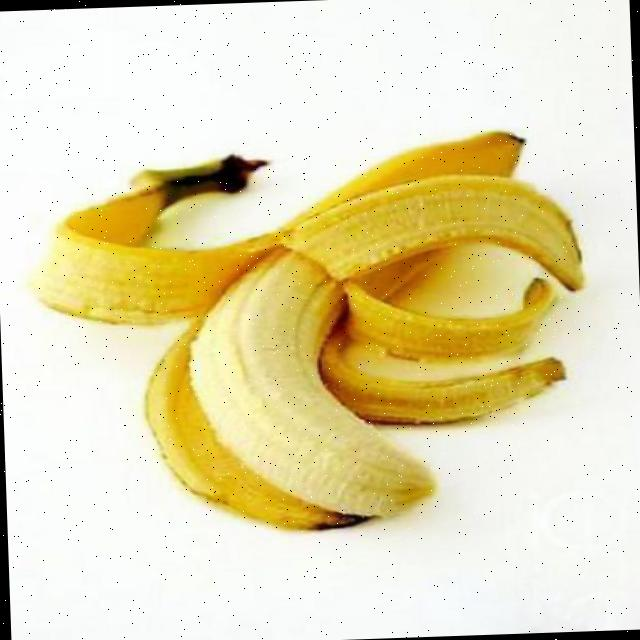banana-peel: (24, 125, 593, 540), (24, 127, 534, 329)
